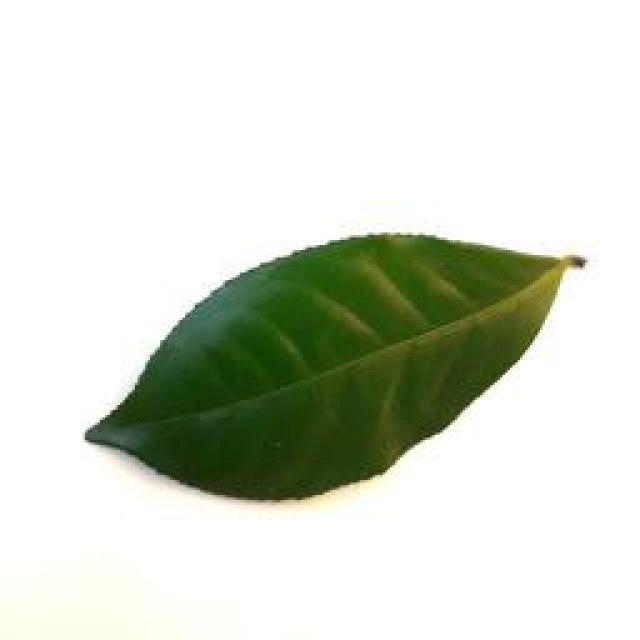Healthy: (52, 222, 601, 505)
